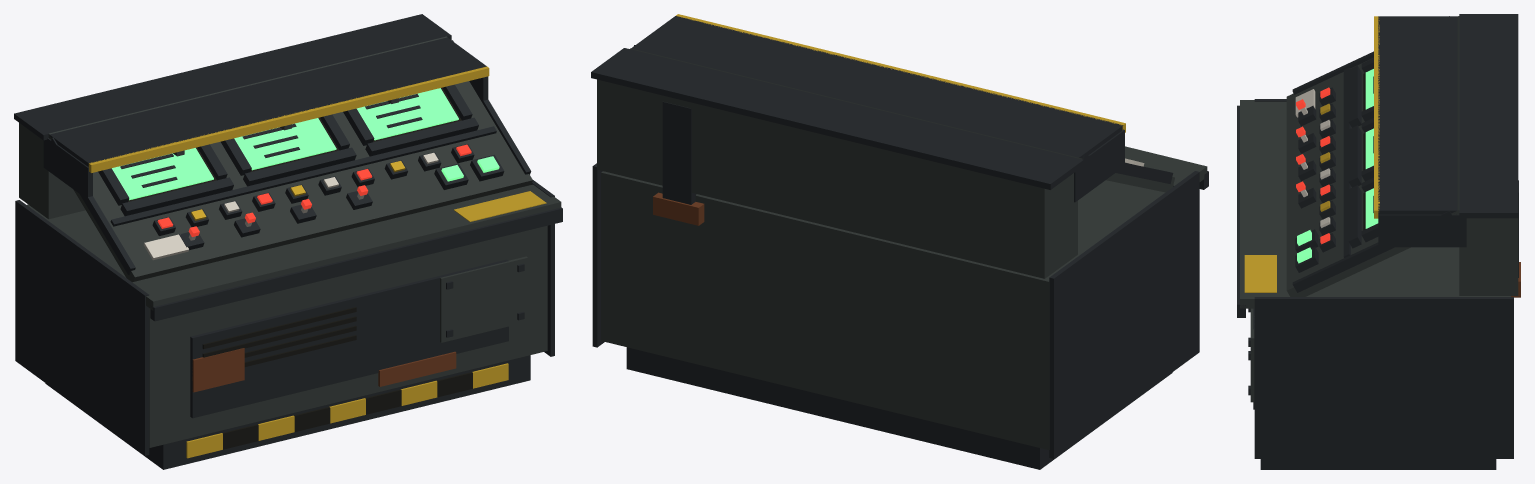
The model's file is console_section.glb.
3 views of the same model, side by side, from view 1: azimuth 30°, elevation 25°; view 2: azimuth 150°, elevation 25°; view 3: azimuth 270°, elevation 25° (orthographic). The views are drawn at different scales.
Visible parts, largest first — view 1: console_section; view 2: console_section; view 3: console_section.
Part boxes in pixels (left/top/right/bottom): console_section: left=14, top=14, right=562, bottom=469; console_section: left=591, top=14, right=1208, bottom=469; console_section: left=1237, top=14, right=1520, bottom=469.
Size of the model in its own units: 1.61 by 1 by 0.9635.
